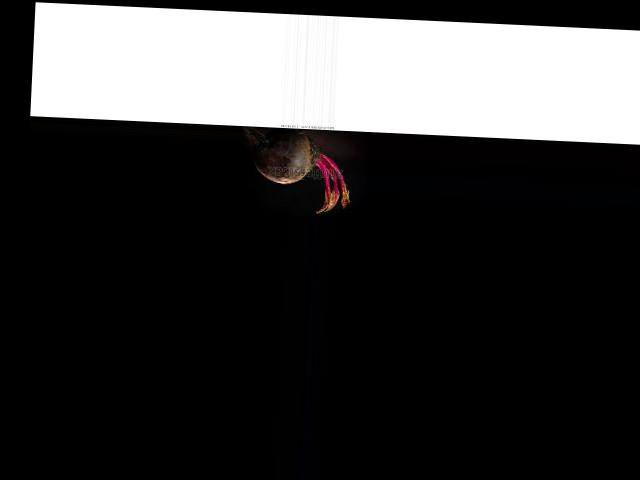beet: (236, 126, 352, 214)
